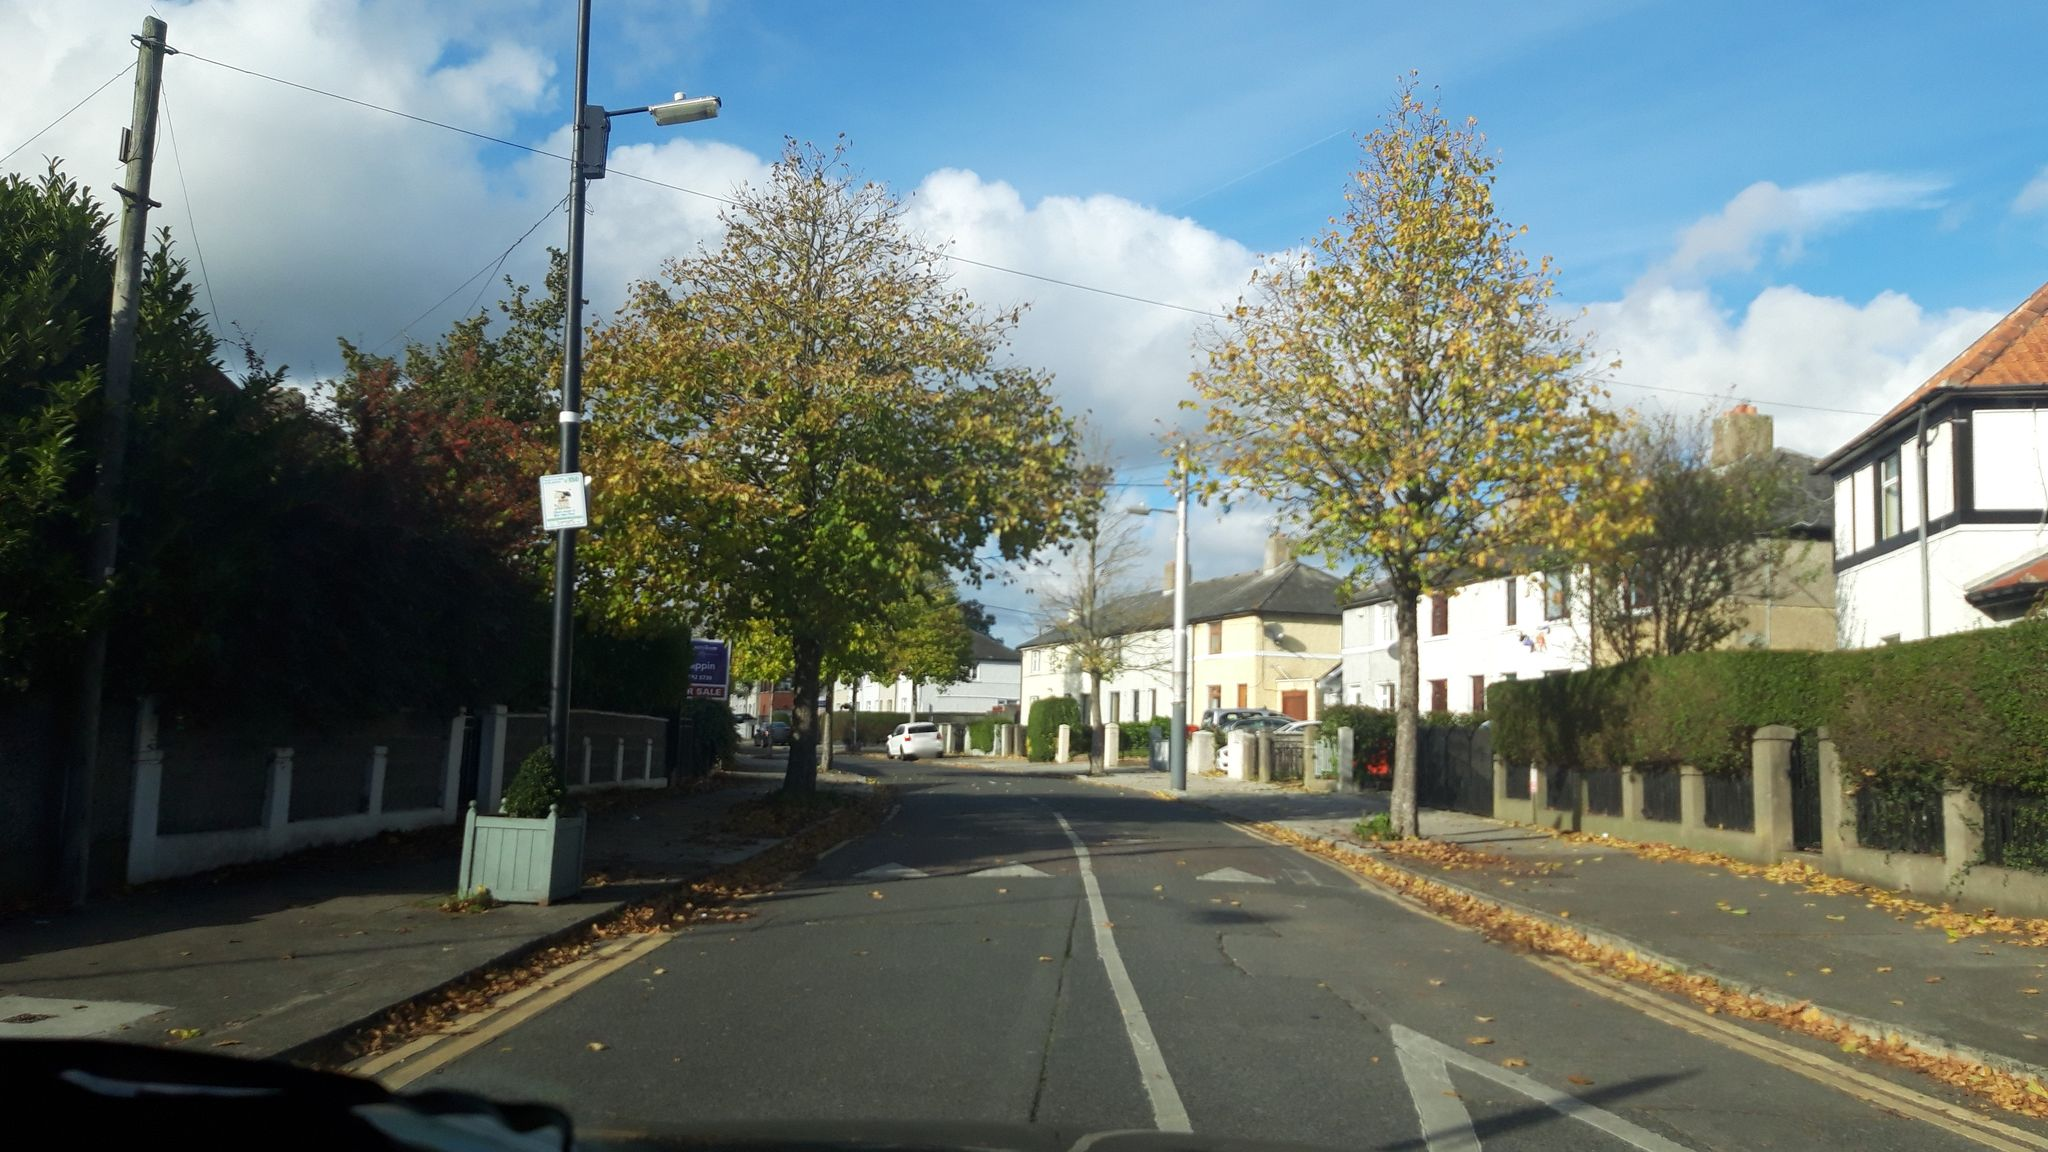property sign: (674, 627, 738, 706)
